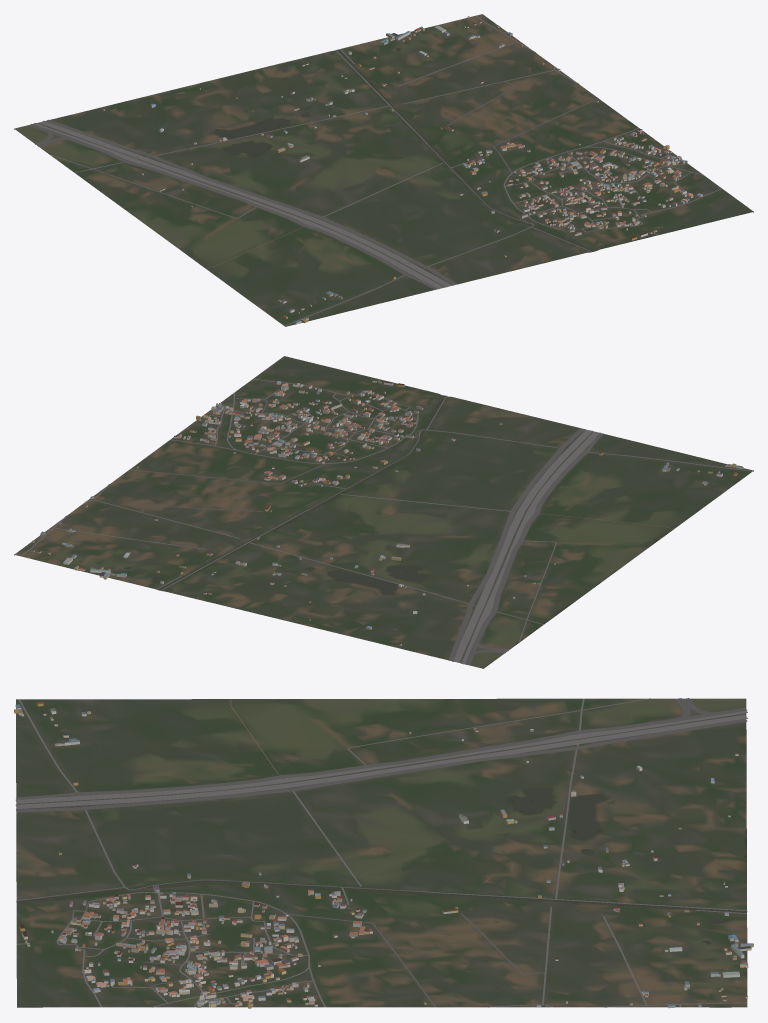
The picture shows the model from 3 angles, top to bottom: view 1: azimuth 30°, elevation 25°; view 2: azimuth 150°, elevation 25°; view 3: azimuth 270°, elevation 25°; orthographic projection. The views are drawn at different scales.
Parts seen in each view (by area): view 1: ground, roads, buildings, water; view 2: ground, roads, buildings, water; view 3: ground, roads, buildings, water.
Boxes of the visible parts, <box> form: ground: <box>14,14,753,326</box>; roads: <box>28,15,722,325</box>; buildings: <box>102,16,702,324</box>; water: <box>213,47,593,251</box>; ground: <box>14,356,753,668</box>; roads: <box>21,378,752,664</box>; buildings: <box>27,380,743,645</box>; water: <box>124,395,445,594</box>; ground: <box>16,698,747,1007</box>; roads: <box>15,698,747,1007</box>; buildings: <box>14,702,753,1008</box>; water: <box>16,787,747,944</box>.
Size of the model in its own units: 1410 by 15.49 by 1420.
